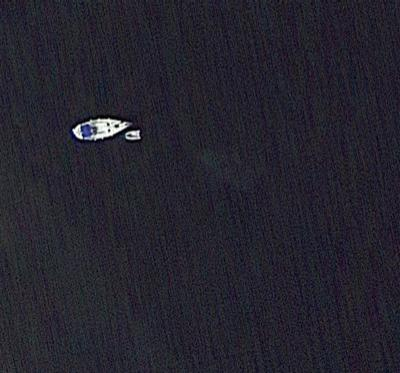Ships: (66, 114, 159, 173)
